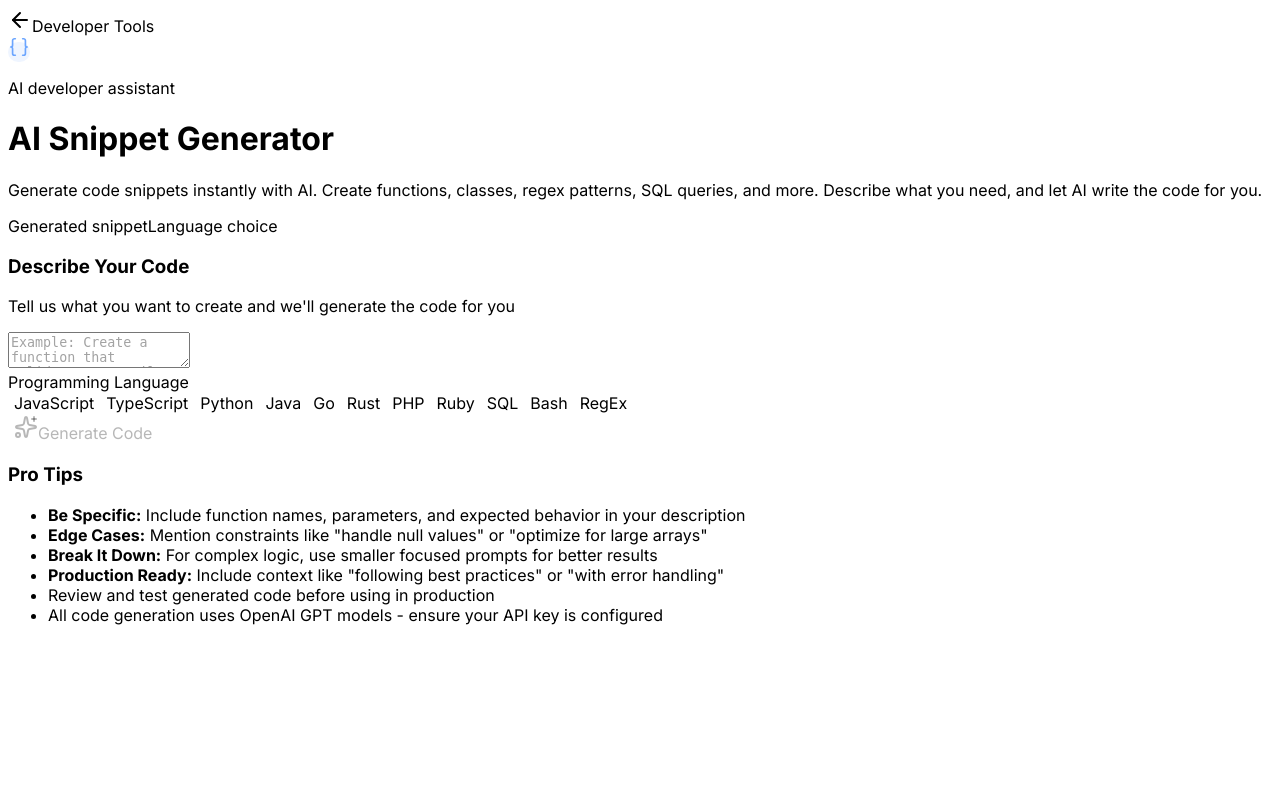
it: AI Snippet Generator - Clear Functionality Tests › should clear prompt and snippet
Type "test prompt" into the text box with placeholder "Create a function that validates" at (99, 350), box [8,332,190,368]
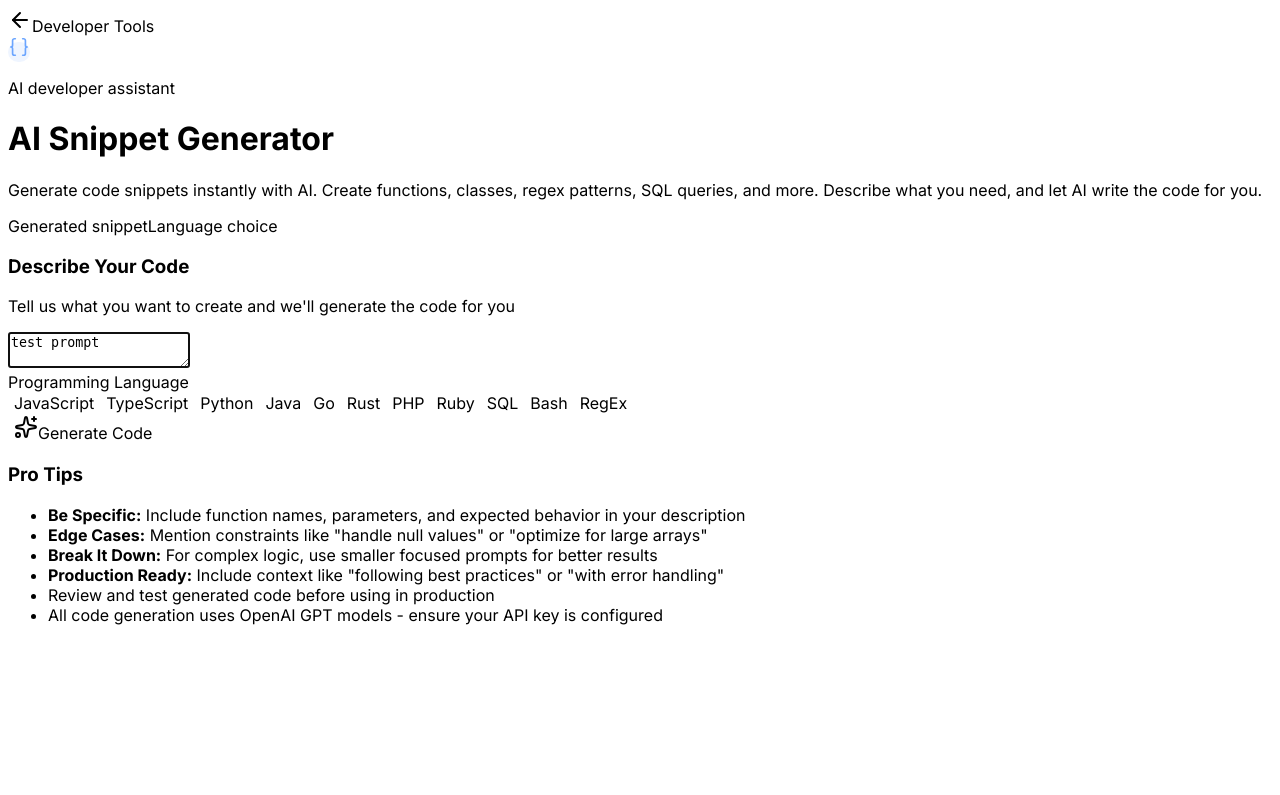
Click the button "Generate Code" at (83, 429), box [8,414,158,444]
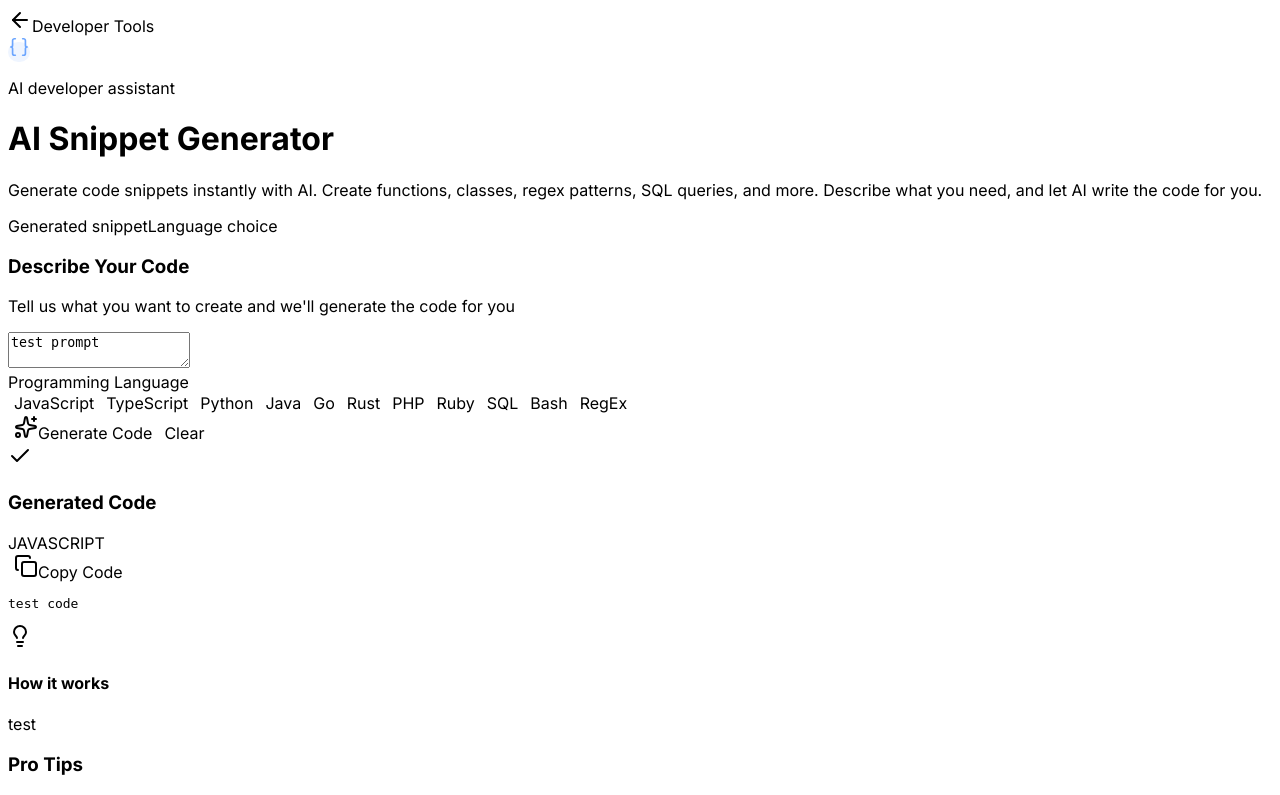
Check: the button "Clear" is shown
Click the button "Clear" at (184, 433), box [158,422,210,444]
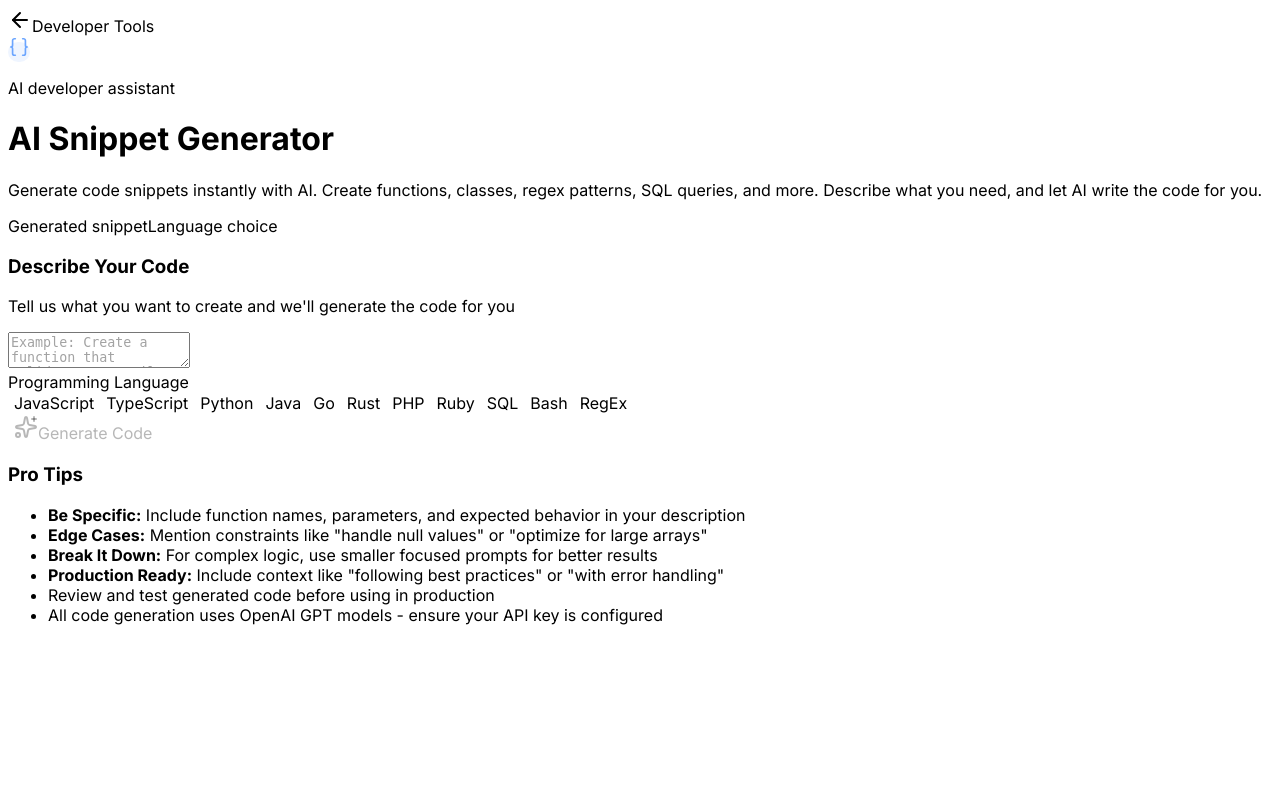
Check: the text box with placeholder "Create a function that validates" is empty, box [8,332,190,368]
Check: the text "test code" is gone
